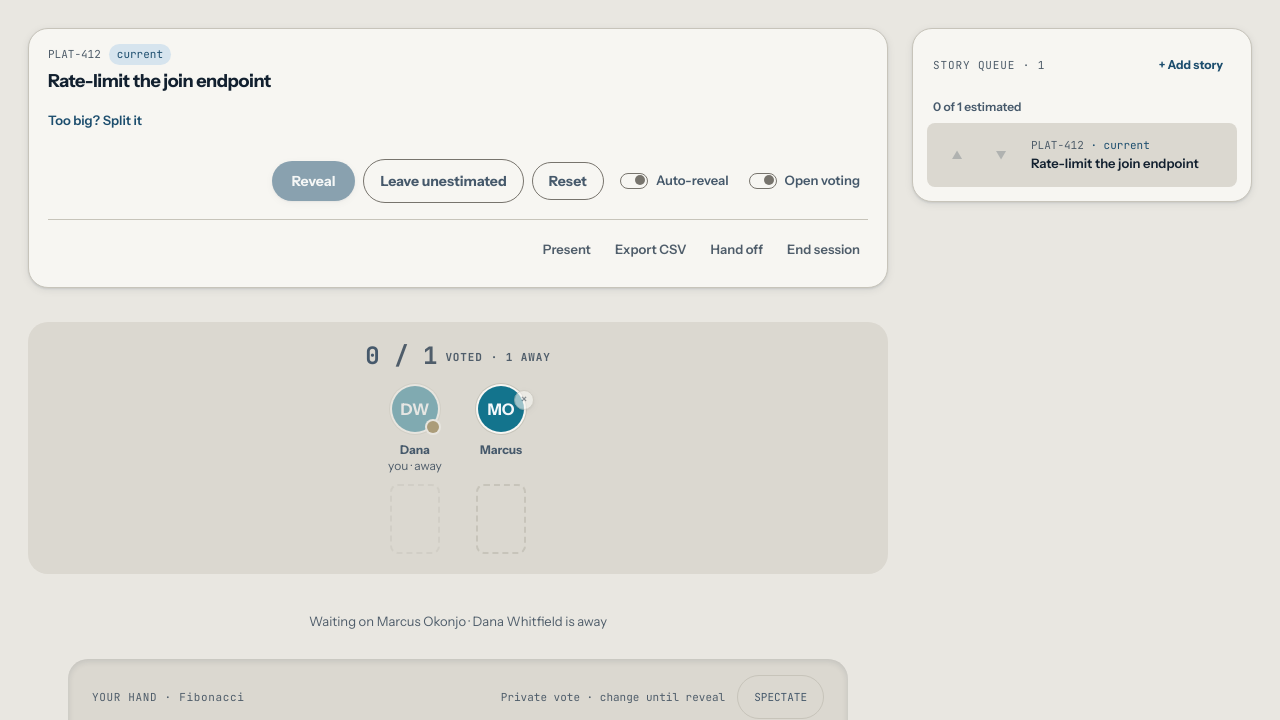
it: PokerRoom end session › starts the End confirm on the safe choice
The image size is (1280, 720).
Click the button "End session".
click(824, 250)  # box [779, 228, 868, 272]
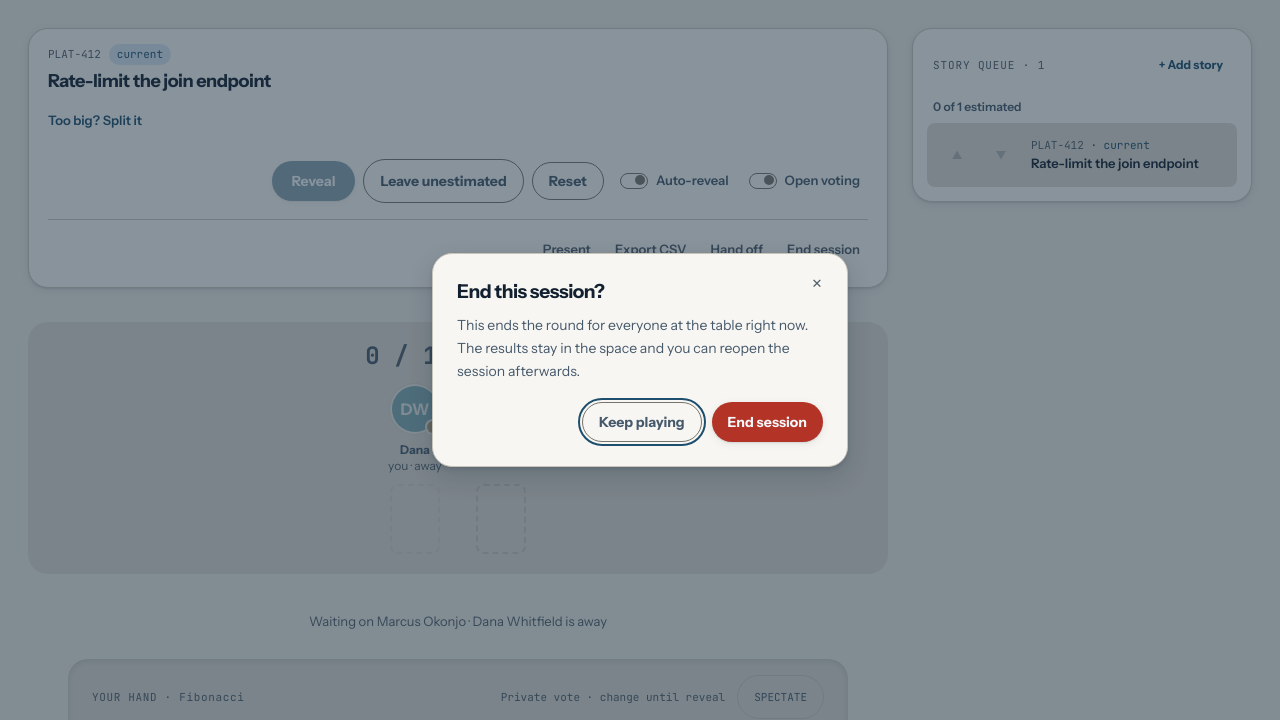
Expected: the heading "End this session?" is shown, [457, 280, 604, 303]
